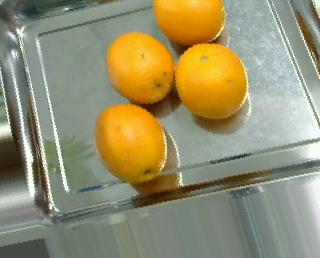Orange: (95, 104, 167, 184), (174, 41, 247, 119), (105, 30, 172, 104), (152, 0, 225, 44)
